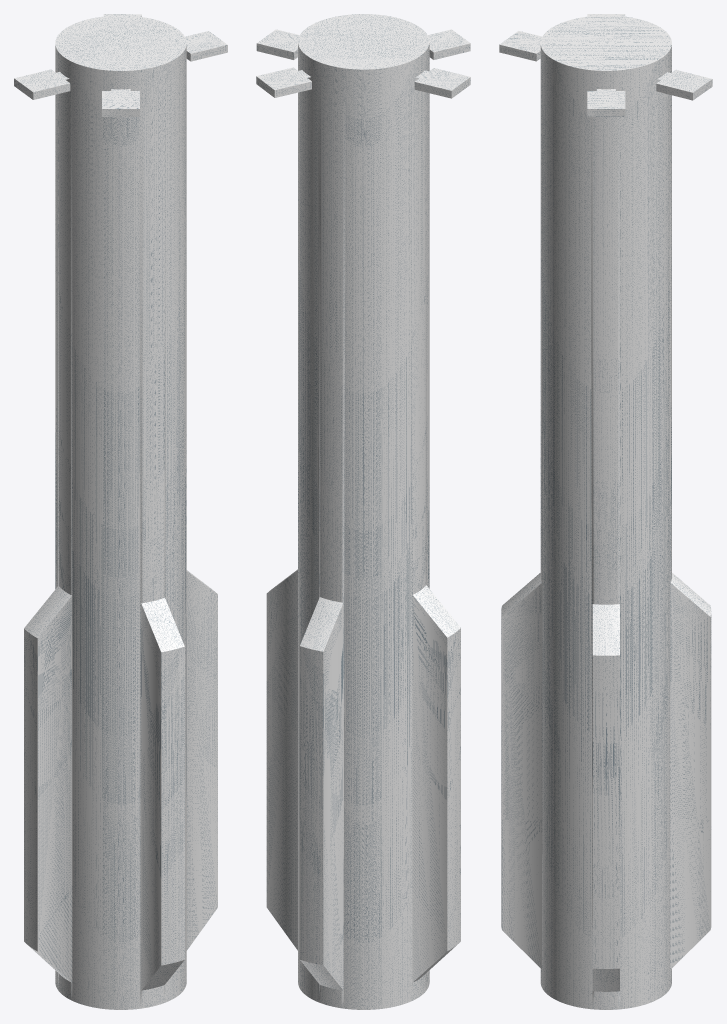
Rendered from booster_obj_1.obj.
3 renders of one model, left to right at view 1: azimuth 30°, elevation 25°; view 2: azimuth 150°, elevation 25°; view 3: azimuth 270°, elevation 25°, orthographic.
Visible parts, largest first — view 1: Mesh9 Group7 Group1 Model, Mesh5 Group5 Group2 Group1 Model, Mesh1 Group3 Group2 Group1 Model, Mesh7 Group6 Group2 Group1 Model; view 2: Mesh9 Group7 Group1 Model, Mesh5 Group5 Group2 Group1 Model, Mesh3 Group4 Group2 Group1 Model, Mesh1 Group3 Group2 Group1 Model, Mesh7 Group6 Group2 Group1 Model; view 3: Mesh9 Group7 Group1 Model, Mesh3 Group4 Group2 Group1 Model, Mesh7 Group6 Group2 Group1 Model, Mesh1 Group3 Group2 Group1 Model.
Part boxes in pixels (box(x1,y1,x2,y2)): Mesh9 Group7 Group1 Model: box(24, 15, 217, 1009); Mesh5 Group5 Group2 Group1 Model: box(14, 69, 70, 99); Mesh1 Group3 Group2 Group1 Model: box(102, 89, 139, 116); Mesh7 Group6 Group2 Group1 Model: box(185, 31, 227, 61); Mesh9 Group7 Group1 Model: box(266, 14, 460, 1009); Mesh5 Group5 Group2 Group1 Model: box(414, 68, 470, 98); Mesh3 Group4 Group2 Group1 Model: box(256, 67, 311, 97); Mesh1 Group3 Group2 Group1 Model: box(428, 29, 470, 59); Mesh7 Group6 Group2 Group1 Model: box(256, 29, 299, 59); Mesh9 Group7 Group1 Model: box(501, 15, 711, 1009); Mesh3 Group4 Group2 Group1 Model: box(656, 70, 712, 100); Mesh7 Group6 Group2 Group1 Model: box(587, 89, 625, 116); Mesh1 Group3 Group2 Group1 Model: box(499, 31, 541, 61).
Size of the model in its own units: 1540 by 7100 by 1460.
